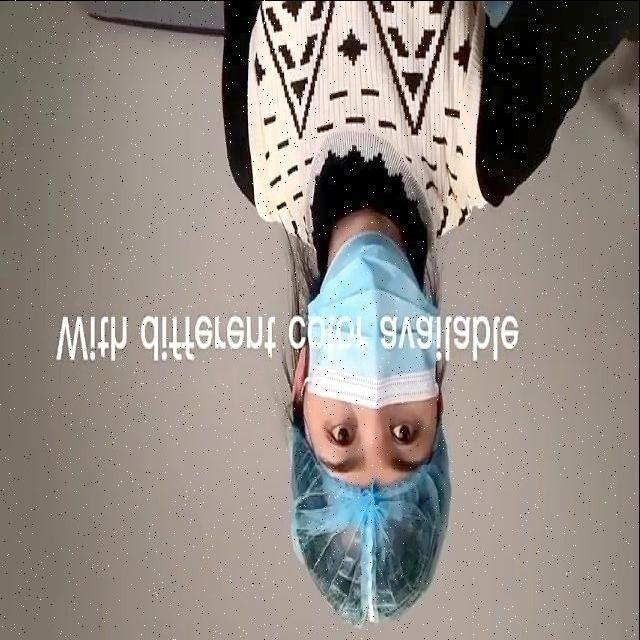gloves: (289, 442, 451, 622)
mask: (329, 266, 441, 406)
